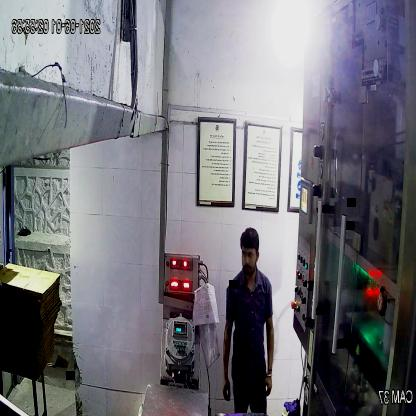no_goggles: (238, 248, 264, 264)
